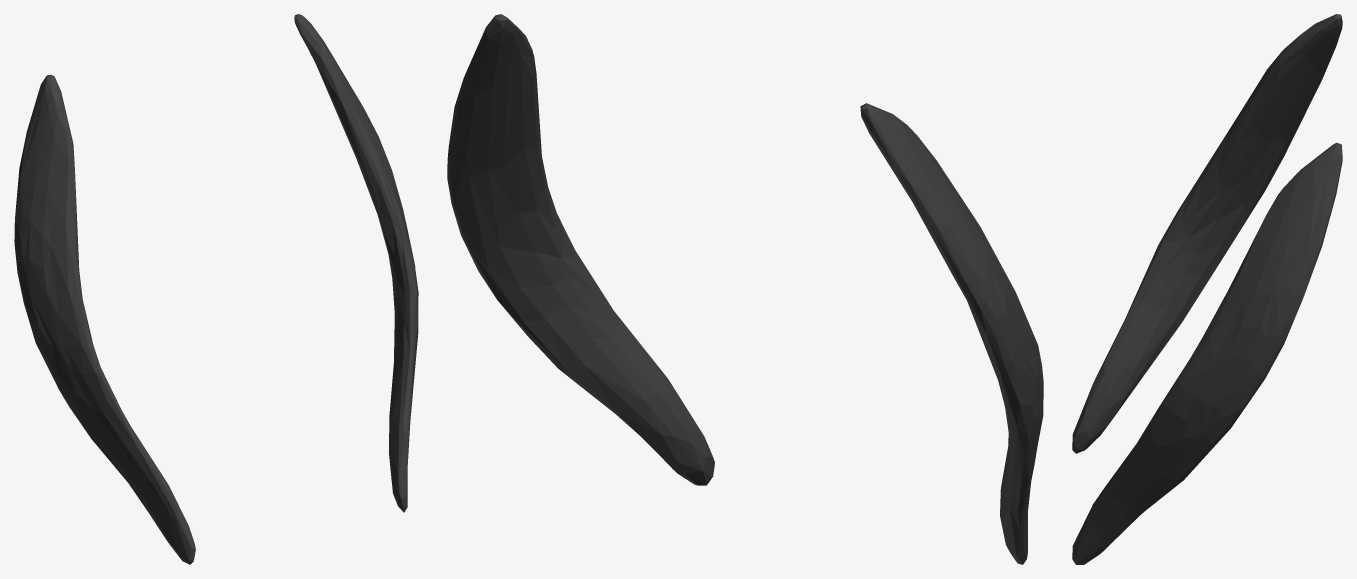
Rendered from m_teres_major.glb.
3 views of the same model, side by side, from view 1: azimuth 30°, elevation 25°; view 2: azimuth 150°, elevation 25°; view 3: azimuth 270°, elevation 25° (orthographic). The views are drawn at different scales.
Parts seen in each view (by area): view 1: m_teres_major; view 2: m_teres_major; view 3: m_teres_major.
Part boxes in pixels (x1=…): m_teres_major: x1=14, y1=14, x2=418, y2=564; m_teres_major: x1=447, y1=14, x2=1043, y2=564; m_teres_major: x1=1072, y1=14, x2=1342, y2=564.
Size of the model in its own units: 0.00593 by 0.00615 by 0.0035.
Materials: 1 (1 with a texture image).
